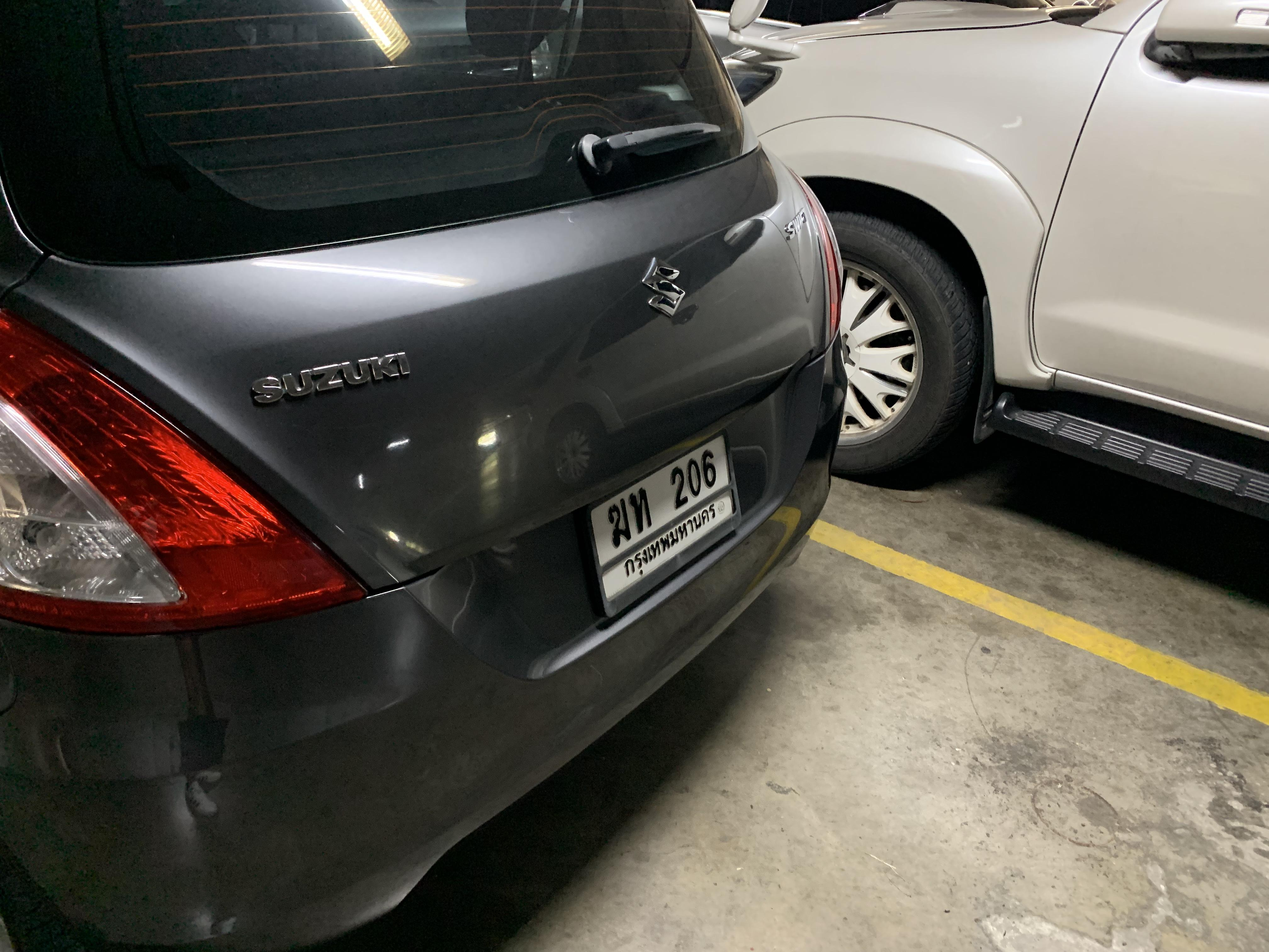license-plate: (573, 425, 746, 630)
